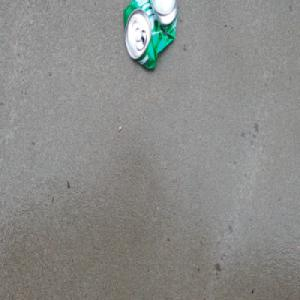SodaCan: (123, 0, 178, 73)
